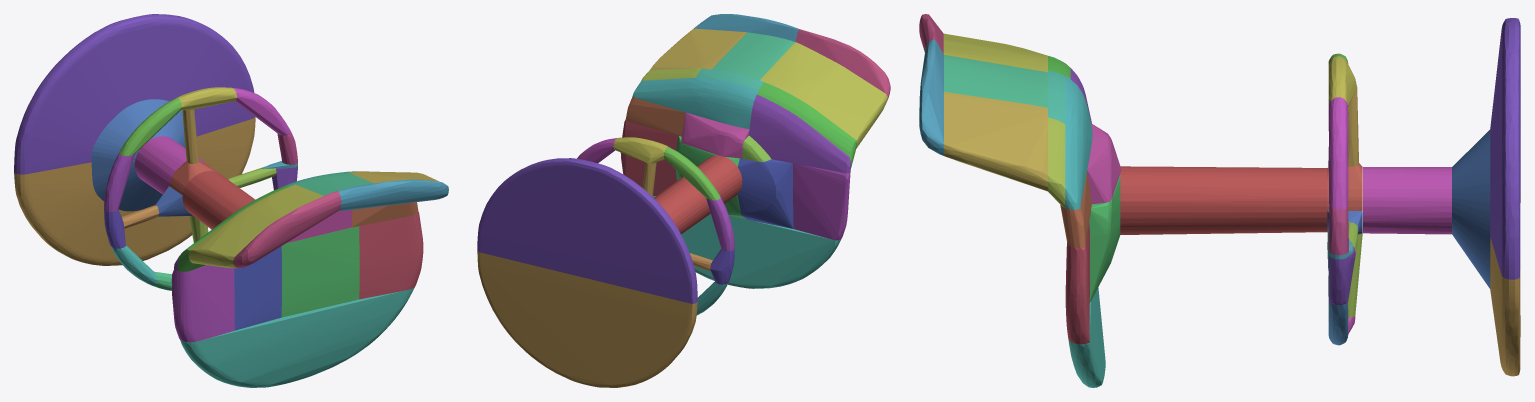
The model's file is hulls.glb.
The picture shows the model from 3 angles, left to right: view 1: azimuth 30°, elevation 25°; view 2: azimuth 150°, elevation 25°; view 3: azimuth 270°, elevation 25°; orthographic projection. The views are drawn at different scales.
Size of the model in its own units: 0.5353 by 0.5116 by 0.842.
